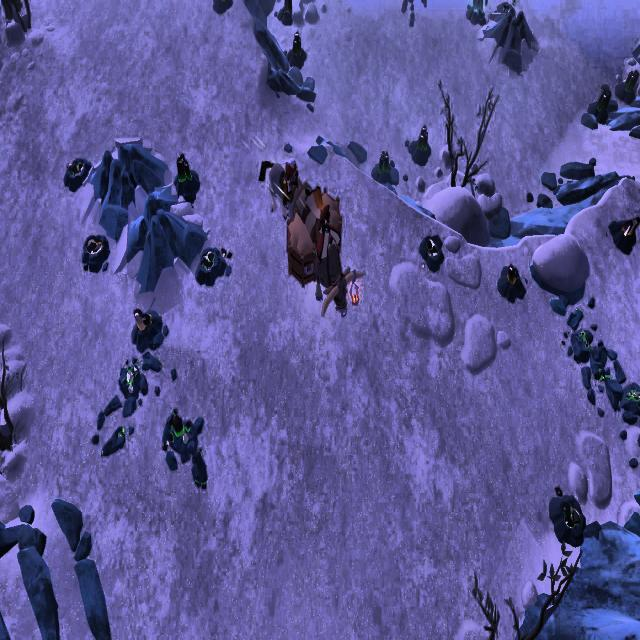ore_t3: (175, 148, 194, 188), (624, 65, 640, 97), (417, 120, 429, 162), (594, 87, 610, 117), (377, 147, 389, 177), (290, 33, 302, 60), (279, 0, 298, 16)
